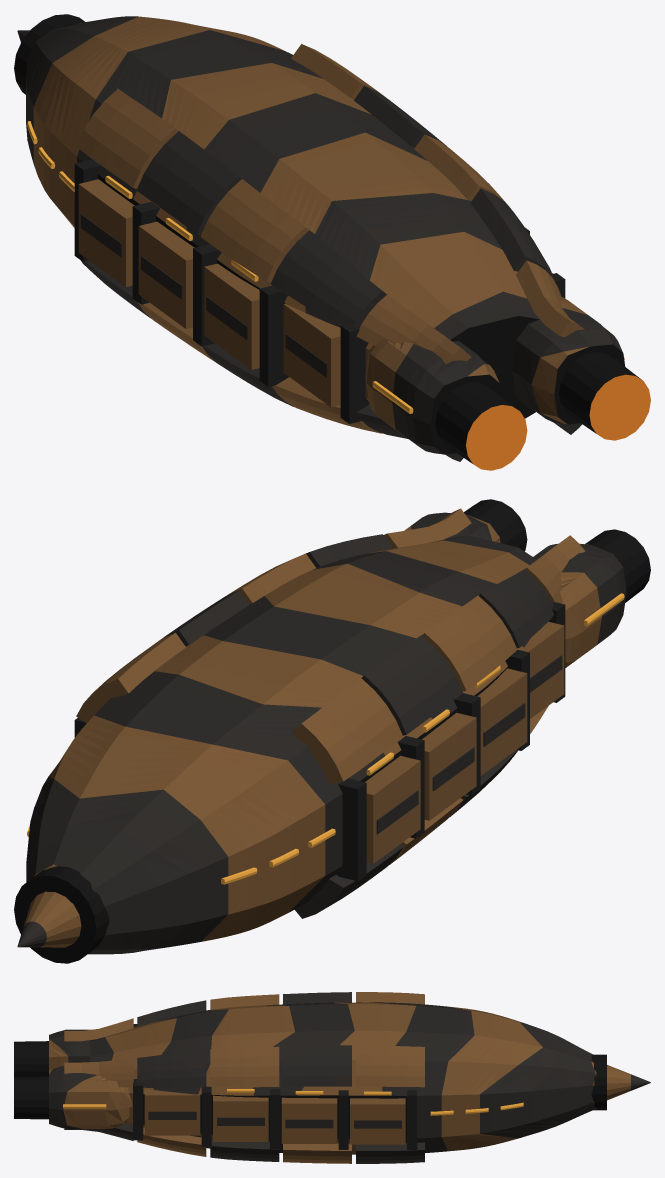
File: hauler.obj
3 views of the same model, one above another, from view 1: azimuth 30°, elevation 25°; view 2: azimuth 150°, elevation 25°; view 3: azimuth 270°, elevation 25° (orthographic). The views are drawn at different scales.
Parts seen in each view (by area): view 1: hull, pod.port, pod.starboard, bay.lip.port.4, bay.lip.port.3, nozzle.starboard, nozzle.port, bay.lip.port.2, bay.lip.port.1, cargo.port.1, cargo.port.2, cargo.port.3 (+21 smaller); view 2: hull, bay.lip.port.1, pod.port, bay.lip.port.2, bay.lip.port.3, collar, cargo.port.1, cargo.port.2, cargo.port.3, bay.lip.port.4, needle, bay.lip.starboard.1 (+18 smaller); view 3: hull, pod.starboard, bay.lip.starboard.2, bay.lip.starboard.1, bay.lip.starboard.3, bay.lip.starboard.4, cargo.starboard.1, cargo.starboard.2, cargo.starboard.3, cargo.starboard.4, nozzle.starboard, bay.sill.starboard.1 (+23 smaller).
Part boxes in pixels (x1,y1,x2,y2): hull: (26,16,539,418); pod.port: (365,339,501,454); pod.starboard: (512,296,625,424); bay.lip.port.4: (270,230,386,327); bay.lip.port.3: (200,179,309,282); nozzle.starboard: (559,352,650,440); nozzle.port: (435,382,527,470); bay.lip.port.2: (136,131,241,234); bay.lip.port.1: (76,88,178,188); cargo.port.1: (78,179,134,286); cargo.port.2: (138,221,194,328); cargo.port.3: (204,263,259,369); hull: (26,535,536,954); bay.lip.port.1: (291,678,403,784); pod.port: (533,543,626,667); bay.lip.port.2: (361,635,462,735); bay.lip.port.3: (422,595,517,691); collar: (14,866,109,963); cargo.port.1: (365,755,420,863); cargo.port.2: (422,712,476,820); cargo.port.3: (477,668,527,775); bay.lip.port.4: (478,569,553,647); needle: (17,891,81,947); bay.lip.starboard.1: (76,632,185,723); hull: (90,1002,596,1154); pod.starboard: (49,1066,132,1128); bay.lip.starboard.2: (283,1045,351,1086); bay.lip.starboard.1: (356,1045,424,1087); bay.lip.starboard.3: (210,1046,279,1087); bay.lip.starboard.4: (137,1049,206,1087); cargo.starboard.1: (350,1098,405,1144); cargo.starboard.2: (281,1097,337,1143); cargo.starboard.3: (213,1095,268,1141); cargo.starboard.4: (144,1088,200,1135); nozzle.starboard: (14,1076,48,1119); bay.sill.starboard.1: (356,1142,424,1163).
Bounding box in the file's own units: 0.3174 × 0.2084 × 1.
